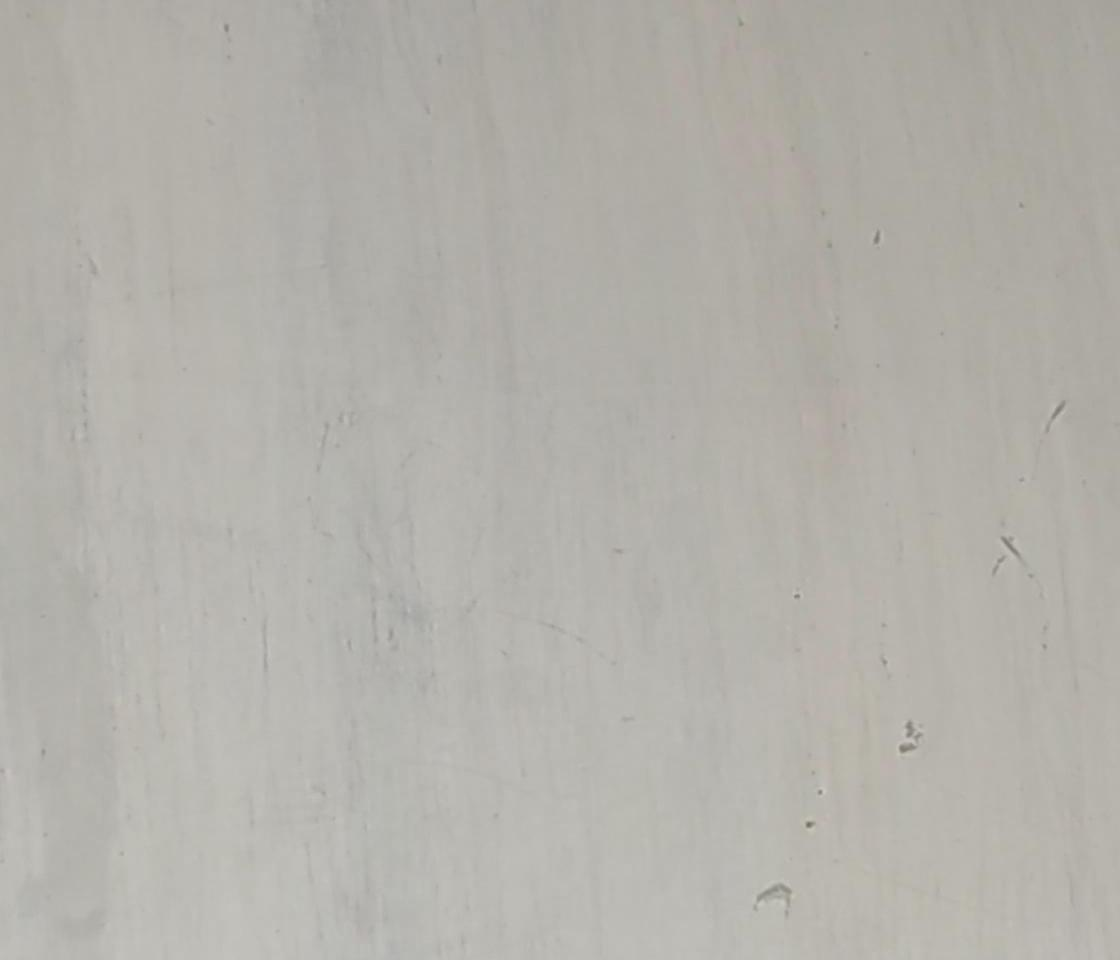scratch: (1038, 393, 1071, 440), (997, 531, 1029, 568)
